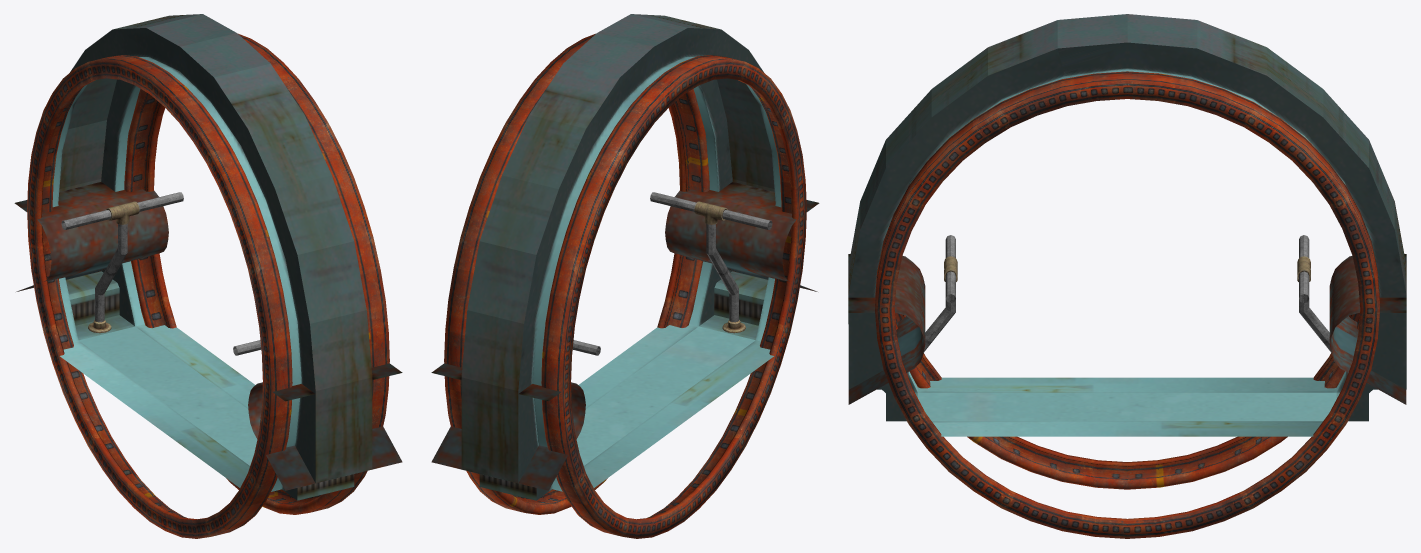
File: tau_tunnel_straight_extender.dae
3 views of the same model, side by side, from view 1: azimuth 30°, elevation 25°; view 2: azimuth 150°, elevation 25°; view 3: azimuth 270°, elevation 25° (orthographic). The views are drawn at different scales.
Parts seen in each view (by area): view 1: polySurface459, pPipe67, pPipe66, polySurface462, polySurface456; view 2: polySurface459, pPipe67, pPipe66, polySurface462, polySurface456; view 3: polySurface459, pPipe66, pPipe67, polySurface462, polySurface456.
Boxes of the visible parts, x1,y1,x2,y2 form: polySurface459: (52, 14, 372, 500); pPipe67: (27, 55, 292, 538); pPipe66: (124, 33, 389, 514); polySurface462: (14, 182, 402, 490); polySurface456: (61, 192, 261, 355); polySurface459: (461, 14, 781, 500); pPipe67: (541, 55, 806, 538); pPipe66: (444, 33, 709, 514); polySurface462: (431, 182, 819, 490); polySurface456: (572, 192, 772, 355); polySurface459: (848, 14, 1406, 436); pPipe66: (875, 71, 1379, 538); pPipe67: (895, 313, 1359, 489); polySurface462: (848, 254, 1406, 404); polySurface456: (906, 235, 1348, 377).
Bounding box in the file's own units: 1 × 3.81 × 4.
